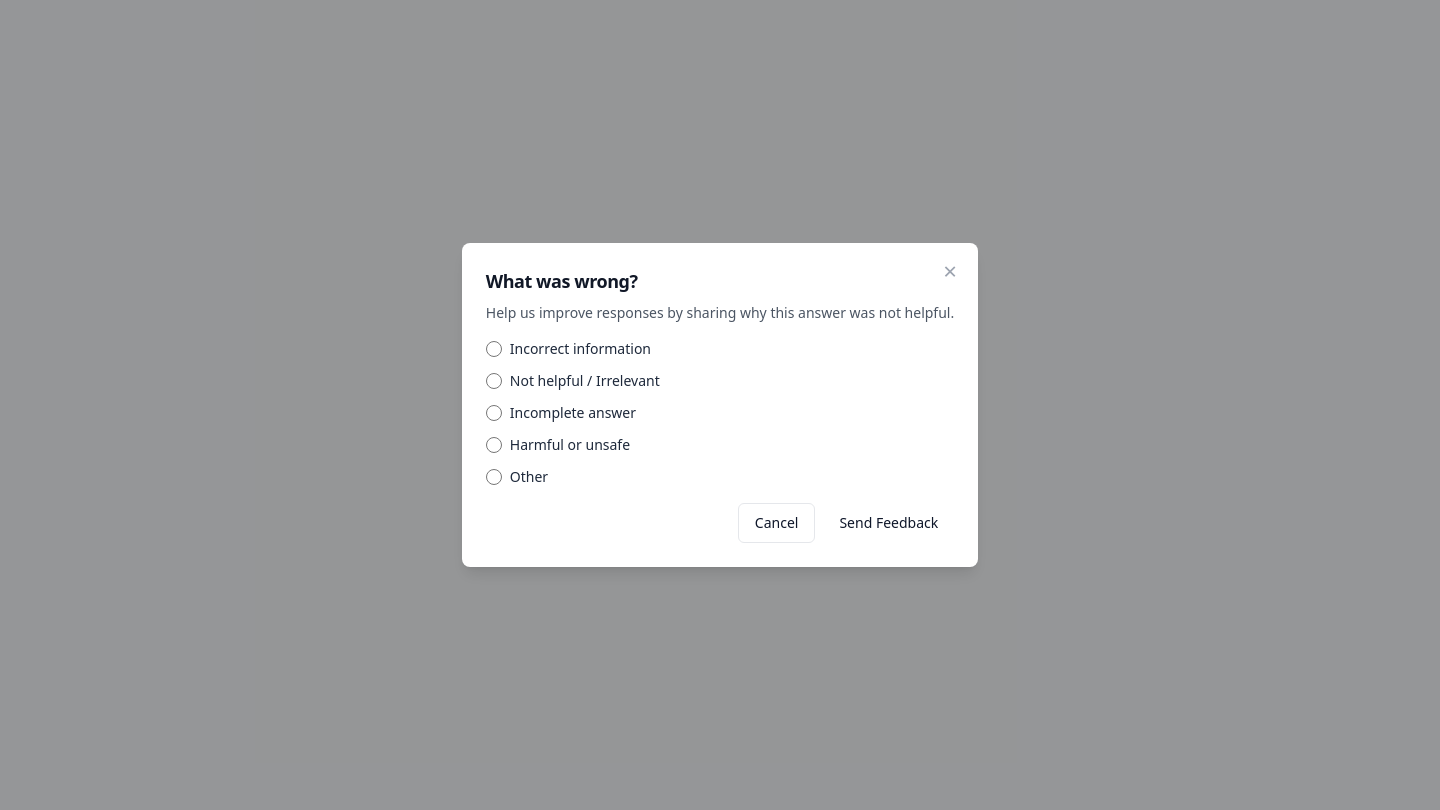
Test case: FeedbackReasonModal › displays character counter for Other text field
Click the radio button labelled "Other" at (494, 477), box [486,469,502,485]
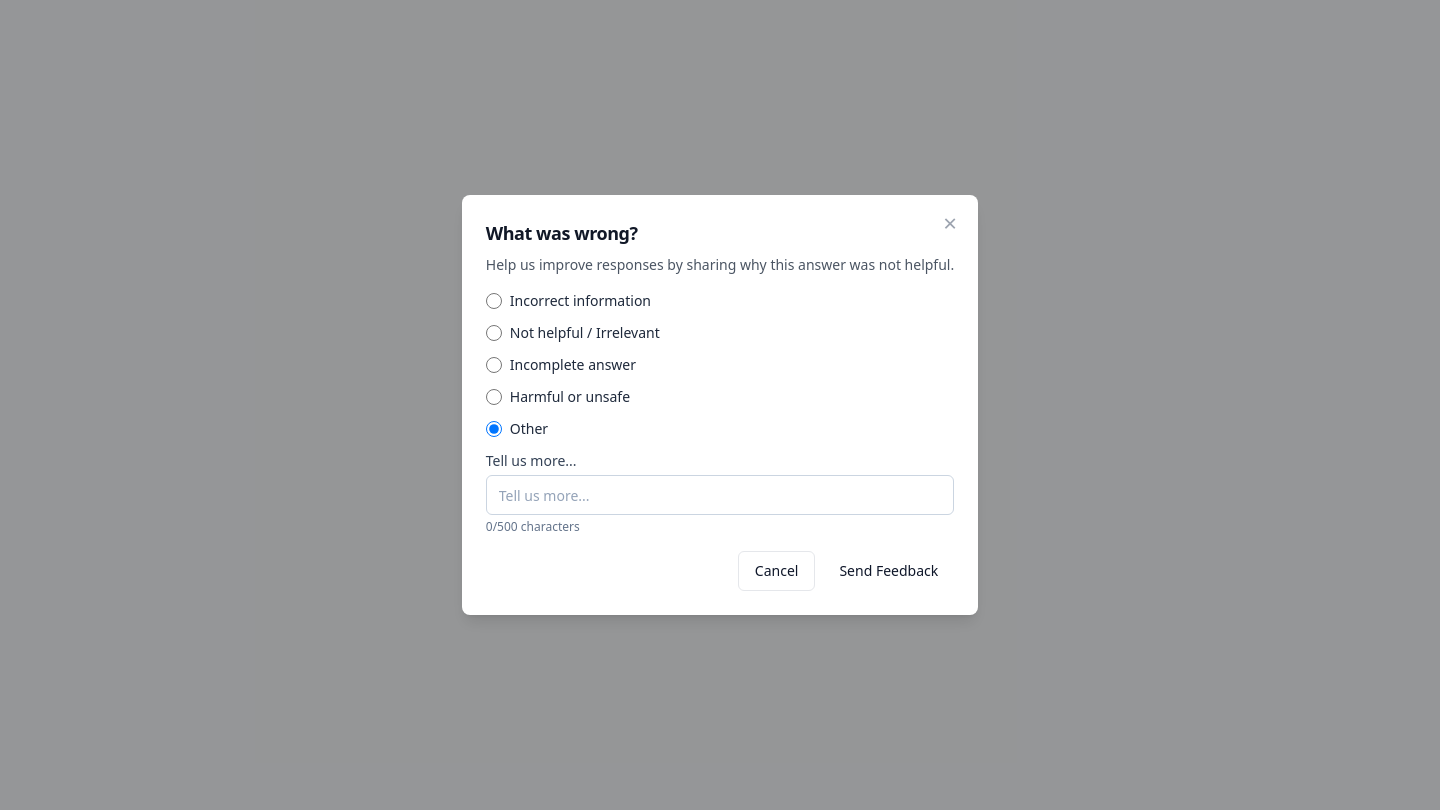
Type "Test feedback" into the field with placeholder "Tell us more..." at (720, 495), box [486,475,954,515]
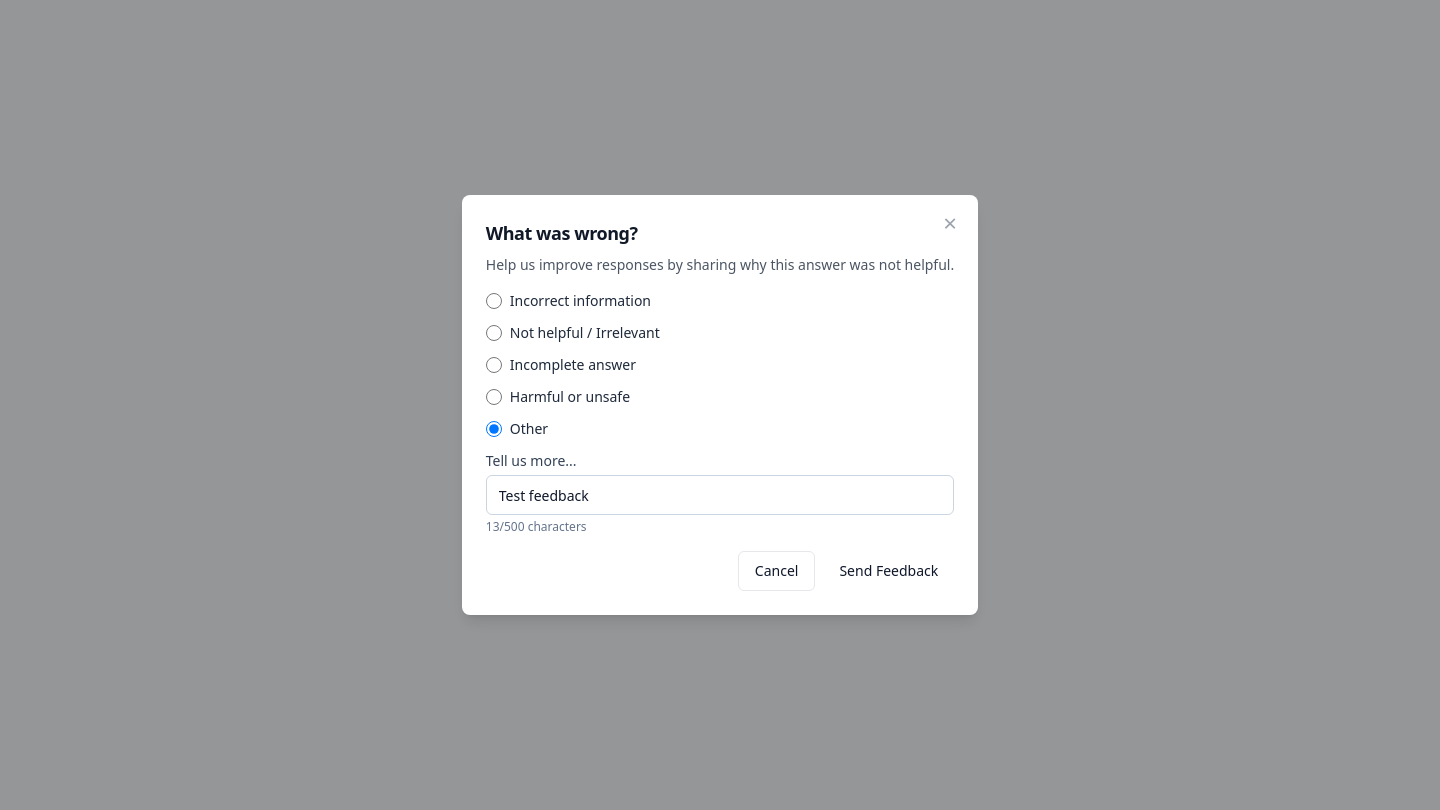
Check: the text "13/500 characters" is shown, box [486,518,587,535]
